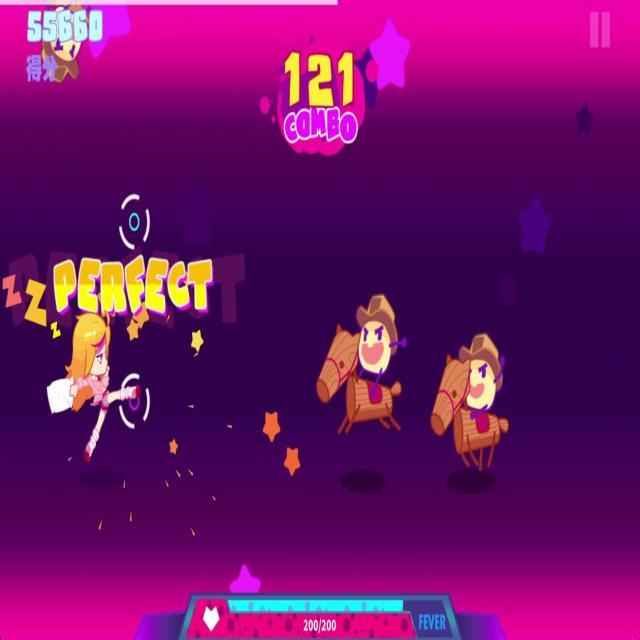qiu: (312, 290, 408, 440), (428, 330, 513, 480)
